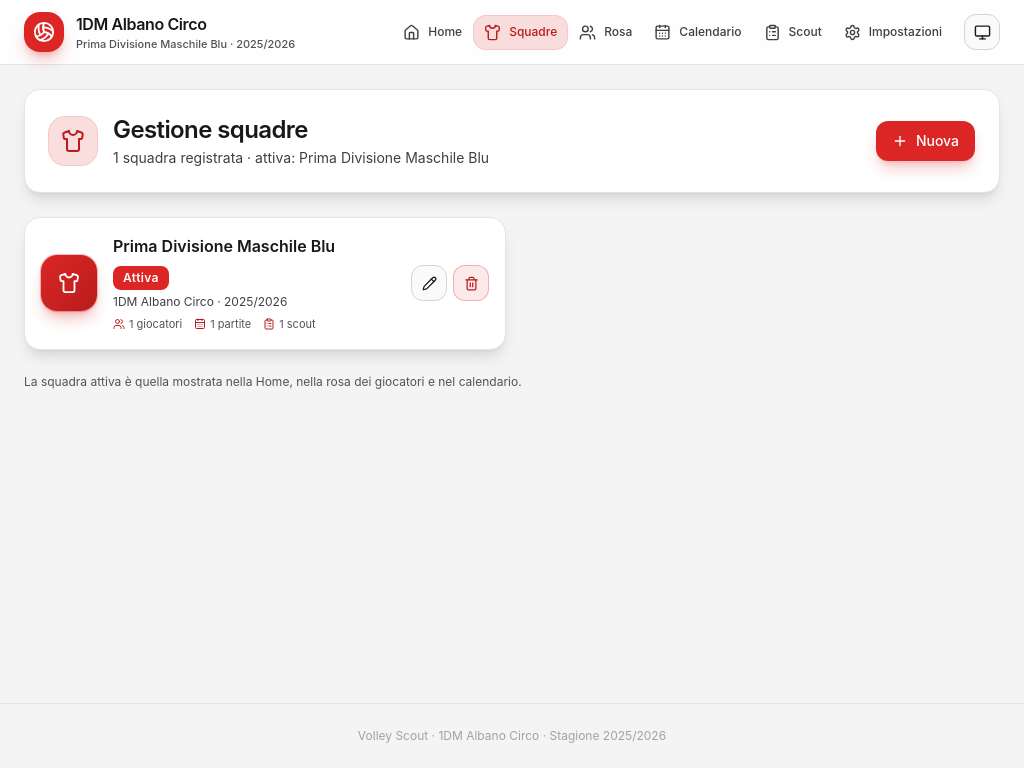
it: squadre › elimina squadra e dati associati con conferma
Click the button named "Elimina" at (471, 283), box [453,265,489,301]
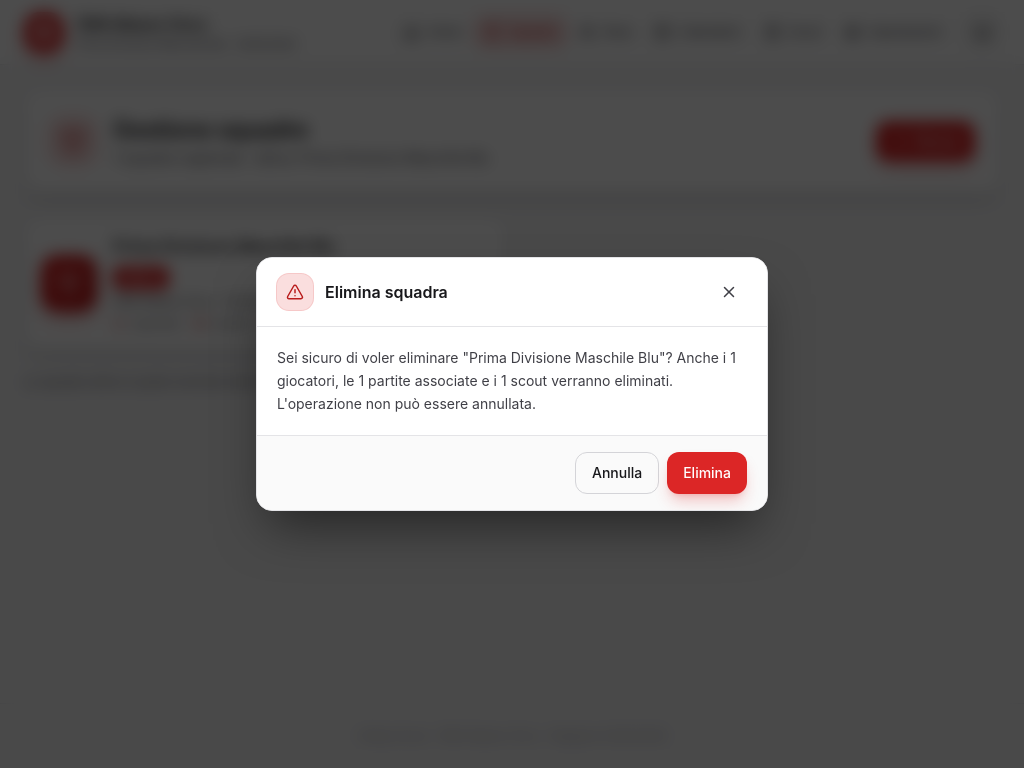
Result: the text "1 giocatori, le 1 partite associate e i 1 scout" is shown at [277,349,736,411]
Click the button "Elimina" at (707, 473), box [667,452,747,494]
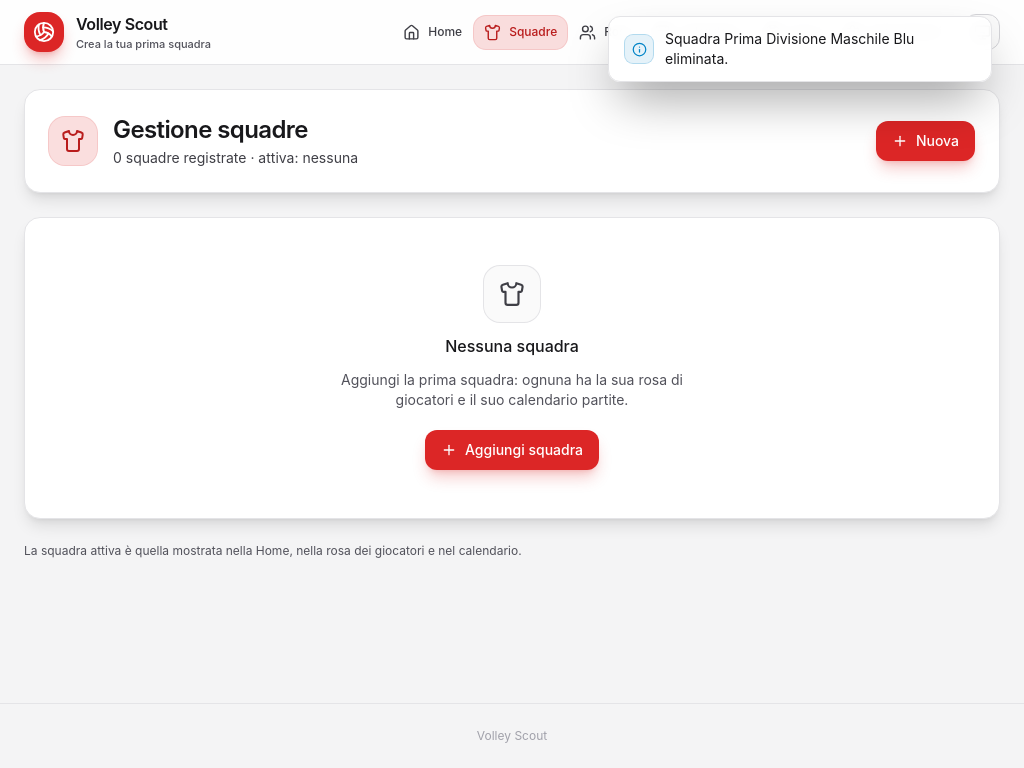
Result: the text "Nessuna squadra" is shown at [445,334,579,358]
